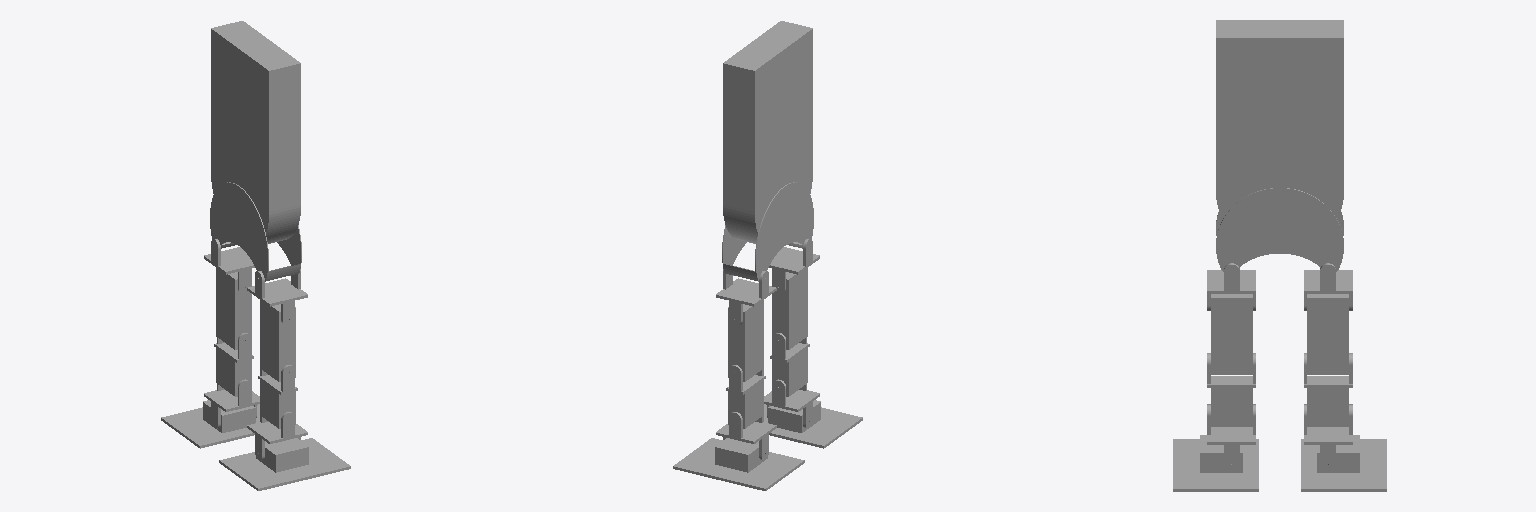
The robot description file, URDF, robot "biped":
<?xml version="1.0" ?>
<!-- =================================================================================== -->
<!-- |    This document was autogenerated by xacro from urdf\biped.xacro.temp          | -->
<!-- |    EDITING THIS FILE BY HAND IS NOT RECOMMENDED                                 | -->
<!-- =================================================================================== -->
<robot xmlns:xacro="http://www.ros.org/wiki/xacro" name="biped">
  <material name="silver">
    <color rgba="0.700 0.700 0.700 1.000"/>
  </material>
  <transmission name="Revolute 3_tran">
    <type>transmission_interface/SimpleTransmission</type>
    <joint name="Revolute 3">
      <hardwareInterface>hardware_interface/EffortJointInterface</hardwareInterface>
    </joint>
    <actuator name="Revolute 3_actr">
      <hardwareInterface>hardware_interface/EffortJointInterface</hardwareInterface>
      <mechanicalReduction>1</mechanicalReduction>
    </actuator>
  </transmission>
  <transmission name="Revolute 4_tran">
    <type>transmission_interface/SimpleTransmission</type>
    <joint name="Revolute 4">
      <hardwareInterface>hardware_interface/EffortJointInterface</hardwareInterface>
    </joint>
    <actuator name="Revolute 4_actr">
      <hardwareInterface>hardware_interface/EffortJointInterface</hardwareInterface>
      <mechanicalReduction>1</mechanicalReduction>
    </actuator>
  </transmission>
  <transmission name="Revolute 5_tran">
    <type>transmission_interface/SimpleTransmission</type>
    <joint name="Revolute 5">
      <hardwareInterface>hardware_interface/EffortJointInterface</hardwareInterface>
    </joint>
    <actuator name="Revolute 5_actr">
      <hardwareInterface>hardware_interface/EffortJointInterface</hardwareInterface>
      <mechanicalReduction>1</mechanicalReduction>
    </actuator>
  </transmission>
  <transmission name="Revolute 6_tran">
    <type>transmission_interface/SimpleTransmission</type>
    <joint name="Revolute 6">
      <hardwareInterface>hardware_interface/EffortJointInterface</hardwareInterface>
    </joint>
    <actuator name="Revolute 6_actr">
      <hardwareInterface>hardware_interface/EffortJointInterface</hardwareInterface>
      <mechanicalReduction>1</mechanicalReduction>
    </actuator>
  </transmission>
  <transmission name="Revolute 7_tran">
    <type>transmission_interface/SimpleTransmission</type>
    <joint name="Revolute 7">
      <hardwareInterface>hardware_interface/EffortJointInterface</hardwareInterface>
    </joint>
    <actuator name="Revolute 7_actr">
      <hardwareInterface>hardware_interface/EffortJointInterface</hardwareInterface>
      <mechanicalReduction>1</mechanicalReduction>
    </actuator>
  </transmission>
  <transmission name="Revolute 8_tran">
    <type>transmission_interface/SimpleTransmission</type>
    <joint name="Revolute 8">
      <hardwareInterface>hardware_interface/EffortJointInterface</hardwareInterface>
    </joint>
    <actuator name="Revolute 8_actr">
      <hardwareInterface>hardware_interface/EffortJointInterface</hardwareInterface>
      <mechanicalReduction>1</mechanicalReduction>
    </actuator>
  </transmission>
  <transmission name="Revolute 12_tran">
    <type>transmission_interface/SimpleTransmission</type>
    <joint name="Revolute 12">
      <hardwareInterface>hardware_interface/EffortJointInterface</hardwareInterface>
    </joint>
    <actuator name="Revolute 12_actr">
      <hardwareInterface>hardware_interface/EffortJointInterface</hardwareInterface>
      <mechanicalReduction>1</mechanicalReduction>
    </actuator>
  </transmission>
  <transmission name="Revolute 13_tran">
    <type>transmission_interface/SimpleTransmission</type>
    <joint name="Revolute 13">
      <hardwareInterface>hardware_interface/EffortJointInterface</hardwareInterface>
    </joint>
    <actuator name="Revolute 13_actr">
      <hardwareInterface>hardware_interface/EffortJointInterface</hardwareInterface>
      <mechanicalReduction>1</mechanicalReduction>
    </actuator>
  </transmission>
  <transmission name="Revolute 18_tran">
    <type>transmission_interface/SimpleTransmission</type>
    <joint name="Revolute 18">
      <hardwareInterface>hardware_interface/EffortJointInterface</hardwareInterface>
    </joint>
    <actuator name="Revolute 18_actr">
      <hardwareInterface>hardware_interface/EffortJointInterface</hardwareInterface>
      <mechanicalReduction>1</mechanicalReduction>
    </actuator>
  </transmission>
  <transmission name="Slider 19_tran">
    <type>transmission_interface/SimpleTransmission</type>
    <joint name="Slider 19">
      <hardwareInterface>hardware_interface/EffortJointInterface</hardwareInterface>
    </joint>
    <actuator name="Slider 19_actr">
      <hardwareInterface>hardware_interface/EffortJointInterface</hardwareInterface>
      <mechanicalReduction>1</mechanicalReduction>
    </actuator>
  </transmission>
  <transmission name="Revolute 20_tran">
    <type>transmission_interface/SimpleTransmission</type>
    <joint name="Revolute 20">
      <hardwareInterface>hardware_interface/EffortJointInterface</hardwareInterface>
    </joint>
    <actuator name="Revolute 20_actr">
      <hardwareInterface>hardware_interface/EffortJointInterface</hardwareInterface>
      <mechanicalReduction>1</mechanicalReduction>
    </actuator>
  </transmission>
  <transmission name="Revolute 21_tran">
    <type>transmission_interface/SimpleTransmission</type>
    <joint name="Revolute 21">
      <hardwareInterface>hardware_interface/EffortJointInterface</hardwareInterface>
    </joint>
    <actuator name="Revolute 21_actr">
      <hardwareInterface>hardware_interface/EffortJointInterface</hardwareInterface>
      <mechanicalReduction>1</mechanicalReduction>
    </actuator>
  </transmission>
  <!-- omitted .gazebo include -->
  <link name="base_link">
    <inertial>
      <origin xyz="0.0019999999999999883 -3.3392489231156755e-17 3.1597960612965125e-05" rpy="0 0 0"/>
      <mass value="0.00020390182942264898"/>
      <inertia ixx="0.0" iyy="0.0" izz="0.0" ixy="-0.0" iyz="-0.0" ixz="-0.0"/>
    </inertial>
    <visual>
      <origin xyz="0 0 0" rpy="0 0 0"/>
      <geometry>
        <mesh filename="package://biped_description/meshes/base_link.stl" scale="0.001 0.001 0.001"/>
      </geometry>
      <material name="silver"/>
    </visual>
    <collision>
      <origin xyz="0 0 0" rpy="0 0 0"/>
      <geometry>
        <mesh filename="package://biped_description/meshes/base_link.stl" scale="0.001 0.001 0.001"/>
      </geometry>
    </collision>
  </link>
  <link name="l_thigh_1">
    <inertial>
      <origin xyz="-2.2352837896616462e-11 -0.002000000100582839 -0.0029999998770654226" rpy="0 0 0"/>
      <mass value="0.0005023753384976689"/>
      <inertia ixx="0.0" iyy="0.0" izz="0.0" ixy="0.0" iyz="-0.0" ixz="0.0"/>
    </inertial>
    <visual>
      <origin xyz="-0.002 -0.0065 0.0068" rpy="0 0 0"/>
      <geometry>
        <mesh filename="package://biped_description/meshes/l_thigh_1.stl" scale="0.001 0.001 0.001"/>
      </geometry>
      <material name="silver"/>
    </visual>
    <collision>
      <origin xyz="-0.002 -0.0065 0.0068" rpy="0 0 0"/>
      <geometry>
        <mesh filename="package://biped_description/meshes/l_thigh_1.stl" scale="0.001 0.001 0.001"/>
      </geometry>
    </collision>
  </link>
  <link name="r_thigh_1">
    <inertial>
      <origin xyz="-2.2352839631339938e-11 0.002000000100582833 -0.002999999877065421" rpy="0 0 0"/>
      <mass value="0.0005023753384976689"/>
      <inertia ixx="0.0" iyy="0.0" izz="0.0" ixy="-0.0" iyz="0.0" ixz="-0.0"/>
    </inertial>
    <visual>
      <origin xyz="-0.002 0.0065 0.0068" rpy="0 0 0"/>
      <geometry>
        <mesh filename="package://biped_description/meshes/r_thigh_1.stl" scale="0.001 0.001 0.001"/>
      </geometry>
      <material name="silver"/>
    </visual>
    <collision>
      <origin xyz="-0.002 0.0065 0.0068" rpy="0 0 0"/>
      <geometry>
        <mesh filename="package://biped_description/meshes/r_thigh_1.stl" scale="0.001 0.001 0.001"/>
      </geometry>
    </collision>
  </link>
  <link name="l_calf_1">
    <inertial>
      <origin xyz="3.059388506421179e-11 -0.0020000001005828407 -0.003914288205483353" rpy="0 0 0"/>
      <mass value="0.00029110830222198907"/>
      <inertia ixx="0.0" iyy="0.0" izz="0.0" ixy="0.0" iyz="0.0" ixz="0.0"/>
    </inertial>
    <visual>
      <origin xyz="-0.002 -0.0065 0.0128" rpy="0 0 0"/>
      <geometry>
        <mesh filename="package://biped_description/meshes/l_calf_1.stl" scale="0.001 0.001 0.001"/>
      </geometry>
      <material name="silver"/>
    </visual>
    <collision>
      <origin xyz="-0.002 -0.0065 0.0128" rpy="0 0 0"/>
      <geometry>
        <mesh filename="package://biped_description/meshes/l_calf_1.stl" scale="0.001 0.001 0.001"/>
      </geometry>
    </collision>
  </link>
  <link name="r_calf_1">
    <inertial>
      <origin xyz="3.0593878558998755e-11 0.002000000100582825 -0.003914288205483349" rpy="0 0 0"/>
      <mass value="0.00029110830222198907"/>
      <inertia ixx="0.0" iyy="0.0" izz="0.0" ixy="0.0" iyz="0.0" ixz="0.0"/>
    </inertial>
    <visual>
      <origin xyz="-0.002 0.0065 0.0128" rpy="0 0 0"/>
      <geometry>
        <mesh filename="package://biped_description/meshes/r_calf_1.stl" scale="0.001 0.001 0.001"/>
      </geometry>
      <material name="silver"/>
    </visual>
    <collision>
      <origin xyz="-0.002 0.0065 0.0128" rpy="0 0 0"/>
      <geometry>
        <mesh filename="package://biped_description/meshes/r_calf_1.stl" scale="0.001 0.001 0.001"/>
      </geometry>
    </collision>
  </link>
  <link name="l_ankle_1">
    <inertial>
      <origin xyz="2.2351746755550073e-11 -0.0020000001005828416 -0.0021499997876584485" rpy="0 0 0"/>
      <mass value="8.634107252961244e-05"/>
      <inertia ixx="0.0" iyy="0.0" izz="0.0" ixy="-0.0" iyz="0.0" ixz="-0.0"/>
    </inertial>
    <visual>
      <origin xyz="-0.002 -0.0065 0.0181" rpy="0 0 0"/>
      <geometry>
        <mesh filename="package://biped_description/meshes/l_ankle_1.stl" scale="0.001 0.001 0.001"/>
      </geometry>
      <material name="silver"/>
    </visual>
    <collision>
      <origin xyz="-0.002 -0.0065 0.0181" rpy="0 0 0"/>
      <geometry>
        <mesh filename="package://biped_description/meshes/l_ankle_1.stl" scale="0.001 0.001 0.001"/>
      </geometry>
    </collision>
  </link>
  <link name="r_ankle_1">
    <inertial>
      <origin xyz="2.2351737648251824e-11 0.0020000001005828112 -0.002149999810010187" rpy="0 0 0"/>
      <mass value="8.634107252961244e-05"/>
      <inertia ixx="0.0" iyy="0.0" izz="0.0" ixy="-0.0" iyz="0.0" ixz="0.0"/>
    </inertial>
    <visual>
      <origin xyz="-0.002 0.0065 0.0181" rpy="0 0 0"/>
      <geometry>
        <mesh filename="package://biped_description/meshes/r_ankle_1.stl" scale="0.001 0.001 0.001"/>
      </geometry>
      <material name="silver"/>
    </visual>
    <collision>
      <origin xyz="-0.002 0.0065 0.0181" rpy="0 0 0"/>
      <geometry>
        <mesh filename="package://biped_description/meshes/r_ankle_1.stl" scale="0.001 0.001 0.001"/>
      </geometry>
    </collision>
  </link>
  <link name="l_foot_1">
    <inertial>
      <origin xyz="-0.001999999977648253 0.001226027296677432 -0.0005198628013570808" rpy="0 0 0"/>
      <mass value="0.00045844"/>
      <inertia ixx="0.0" iyy="0.0" izz="0.0" ixy="0.0" iyz="0.0" ixz="0.0"/>
    </inertial>
    <visual>
      <origin xyz="-0.004 -0.0045 0.0224" rpy="0 0 0"/>
      <geometry>
        <mesh filename="package://biped_description/meshes/l_foot_1.stl" scale="0.001 0.001 0.001"/>
      </geometry>
      <material name="silver"/>
    </visual>
    <collision>
      <origin xyz="-0.004 -0.0045 0.0224" rpy="0 0 0"/>
      <geometry>
        <mesh filename="package://biped_description/meshes/l_foot_1.stl" scale="0.001 0.001 0.001"/>
      </geometry>
    </collision>
  </link>
  <link name="r_foot_1">
    <inertial>
      <origin xyz="-0.0019999999776482615 -0.001226060240764916 -0.0005198768069430218" rpy="0 0 0"/>
      <mass value="0.00045842766924883465"/>
      <inertia ixx="0.0" iyy="0.0" izz="0.0" ixy="-0.0" iyz="-0.0" ixz="0.0"/>
    </inertial>
    <visual>
      <origin xyz="-0.004 0.0045 0.0224" rpy="0 0 0"/>
      <geometry>
        <mesh filename="package://biped_description/meshes/r_foot_1.stl" scale="0.001 0.001 0.001"/>
      </geometry>
      <material name="silver"/>
    </visual>
    <collision>
      <origin xyz="-0.004 0.0045 0.0224" rpy="0 0 0"/>
      <geometry>
        <mesh filename="package://biped_description/meshes/r_foot_1.stl" scale="0.001 0.001 0.001"/>
      </geometry>
    </collision>
  </link>
  <link name="sacrum_1">
    <inertial>
      <origin xyz="-0.0018999999999999998 3.2361957557891167e-11 -0.0017507188623073454" rpy="0 0 0"/>
      <mass value="0.0022235524932220385"/>
      <inertia ixx="0.0" iyy="0.0" izz="0.0" ixy="0.0" iyz="-0.0" ixz="0.0"/>
    </inertial>
    <visual>
      <origin xyz="-0.0039 -0.0 -0.0055" rpy="0 0 0"/>
      <geometry>
        <mesh filename="package://biped_description/meshes/sacrum_1.stl" scale="0.001 0.001 0.001"/>
      </geometry>
      <material name="silver"/>
    </visual>
    <collision>
      <origin xyz="-0.0039 -0.0 -0.0055" rpy="0 0 0"/>
      <geometry>
        <mesh filename="package://biped_description/meshes/sacrum_1.stl" scale="0.001 0.001 0.001"/>
      </geometry>
    </collision>
  </link>
  <link name="back_1">
    <inertial>
      <origin xyz="0.0 1.341104514528074e-10 0.007249999877065423" rpy="0 0 0"/>
      <mass value="0.005190420000000001"/>
      <inertia ixx="0.0" iyy="0.0" izz="0.0" ixy="-0.0" iyz="0.0" ixz="-0.0"/>
    </inertial>
    <visual>
      <origin xyz="-0.002 -0.0 -0.007" rpy="0 0 0"/>
      <geometry>
        <mesh filename="package://biped_description/meshes/back_1.stl" scale="0.001 0.001 0.001"/>
      </geometry>
      <material name="silver"/>
    </visual>
    <collision>
      <origin xyz="-0.002 -0.0 -0.007" rpy="0 0 0"/>
      <geometry>
        <mesh filename="package://biped_description/meshes/back_1.stl" scale="0.001 0.001 0.001"/>
      </geometry>
    </collision>
  </link>
  <link name="l_hip_1">
    <inertial>
      <origin xyz="-0.0020000000000000018 -1.0058283980013405e-10 -0.002149999944120643" rpy="0 0 0"/>
      <mass value="8.634107252961229e-05"/>
      <inertia ixx="0.0" iyy="0.0" izz="0.0" ixy="-0.0" iyz="-0.0" ixz="0.0"/>
    </inertial>
    <visual>
      <origin xyz="-0.004 -0.0045 0.0025" rpy="0 0 0"/>
      <geometry>
        <mesh filename="package://biped_description/meshes/l_hip_1.stl" scale="0.001 0.001 0.001"/>
      </geometry>
      <material name="silver"/>
    </visual>
    <collision>
      <origin xyz="-0.004 -0.0045 0.0025" rpy="0 0 0"/>
      <geometry>
        <mesh filename="package://biped_description/meshes/l_hip_1.stl" scale="0.001 0.001 0.001"/>
      </geometry>
    </collision>
  </link>
  <link name="r_hip_1">
    <inertial>
      <origin xyz="-0.002000000000000005 1.005828363306871e-10 -0.002149999944120643" rpy="0 0 0"/>
      <mass value="8.634107252961229e-05"/>
      <inertia ixx="0.0" iyy="0.0" izz="0.0" ixy="-0.0" iyz="-0.0" ixz="0.0"/>
    </inertial>
    <visual>
      <origin xyz="-0.004 0.0045 0.0025" rpy="0 0 0"/>
      <geometry>
        <mesh filename="package://biped_description/meshes/r_hip_1.stl" scale="0.001 0.001 0.001"/>
      </geometry>
      <material name="silver"/>
    </visual>
    <collision>
      <origin xyz="-0.004 0.0045 0.0025" rpy="0 0 0"/>
      <geometry>
        <mesh filename="package://biped_description/meshes/r_hip_1.stl" scale="0.001 0.001 0.001"/>
      </geometry>
    </collision>
  </link>
  <joint name="Revolute 3" type="revolute">
    <origin xyz="-0.002 0.002 -0.0043" rpy="0 0 0"/>
    <parent link="l_hip_1"/>
    <child link="l_thigh_1"/>
    <axis xyz="-0.0 -1.0 0.0"/>
    <limit upper="1.570796" lower="-1.570796" effort="100" velocity="100"/>
  </joint>
  <joint name="Revolute 4" type="revolute">
    <origin xyz="-0.002 -0.002 -0.0043" rpy="0 0 0"/>
    <parent link="r_hip_1"/>
    <child link="r_thigh_1"/>
    <axis xyz="0.0 1.0 -0.0"/>
    <limit upper="1.570796" lower="-1.570796" effort="100" velocity="100"/>
  </joint>
  <joint name="Revolute 5" type="revolute">
    <origin xyz="0.0 0.0 -0.006" rpy="0 0 0"/>
    <parent link="l_thigh_1"/>
    <child link="l_calf_1"/>
    <axis xyz="-0.0 1.0 -0.0"/>
    <limit upper="1.570796" lower="-1.570796" effort="100" velocity="100"/>
  </joint>
  <joint name="Revolute 6" type="revolute">
    <origin xyz="0.0 0.0 -0.006" rpy="0 0 0"/>
    <parent link="r_thigh_1"/>
    <child link="r_calf_1"/>
    <axis xyz="-0.0 -1.0 0.0"/>
    <limit upper="1.570796" lower="-1.570796" effort="100" velocity="100"/>
  </joint>
  <joint name="Revolute 7" type="revolute">
    <origin xyz="0.0 0.0 -0.0053" rpy="0 0 0"/>
    <parent link="l_calf_1"/>
    <child link="l_ankle_1"/>
    <axis xyz="0.0 1.0 -0.0"/>
    <limit upper="1.570796" lower="-1.570796" effort="100" velocity="100"/>
  </joint>
  <joint name="Revolute 8" type="revolute">
    <origin xyz="0.0 0.0 -0.0053" rpy="0 0 0"/>
    <parent link="r_calf_1"/>
    <child link="r_ankle_1"/>
    <axis xyz="0.0 -1.0 0.0"/>
    <limit upper="1.570796" lower="-1.570796" effort="100" velocity="100"/>
  </joint>
  <joint name="Revolute 12" type="revolute">
    <origin xyz="0.002 -0.002 -0.0043" rpy="0 0 0"/>
    <parent link="l_ankle_1"/>
    <child link="l_foot_1"/>
    <axis xyz="-1.0 -0.0 0.0"/>
    <limit upper="0.698132" lower="-0.349066" effort="100" velocity="100"/>
  </joint>
  <joint name="Revolute 13" type="revolute">
    <origin xyz="0.002 0.002 -0.0043" rpy="0 0 0"/>
    <parent link="r_ankle_1"/>
    <child link="r_foot_1"/>
    <axis xyz="-1.0 0.0 -0.0"/>
    <limit upper="0.349066" lower="-0.698132" effort="100" velocity="100"/>
  </joint>
  <joint name="Revolute 18" type="continuous">
    <origin xyz="0.0039 0.0 0.0055" rpy="0 0 0"/>
    <parent link="base_link"/>
    <child link="sacrum_1"/>
    <axis xyz="-1.0 0.0 0.0"/>
  </joint>
  <joint name="Slider 19" type="prismatic">
    <origin xyz="-0.0019 0.0 0.0015" rpy="0 0 0"/>
    <parent link="sacrum_1"/>
    <child link="back_1"/>
    <axis xyz="0.0 1.0 0.0"/>
    <limit upper="0.004" lower="-0.004" effort="100" velocity="100"/>
  </joint>
  <joint name="Revolute 20" type="continuous">
    <origin xyz="0.004 0.0045 -0.0025" rpy="0 0 0"/>
    <parent link="base_link"/>
    <child link="l_hip_1"/>
    <axis xyz="1.0 0.0 0.0"/>
  </joint>
  <joint name="Revolute 21" type="continuous">
    <origin xyz="0.004 -0.0045 -0.0025" rpy="0 0 0"/>
    <parent link="base_link"/>
    <child link="r_hip_1"/>
    <axis xyz="1.0 0.0 0.0"/>
  </joint>
</robot>

--- Facts derived from the render (not from the file) ---
Views: 3 orthographic renders of the robot side by side, from view 1: azimuth 30°, elevation 25°; view 2: azimuth 150°, elevation 25°; view 3: azimuth 270°, elevation 25°.
Model biped with 13 links and 12 joints (8 revolute, 3 continuous, 1 prismatic), rooted at base_link, posed all joints at 0.
Visible links, largest first — view 1: back_1, base_link, r_foot_1, l_foot_1, sacrum_1, l_thigh_1, r_thigh_1, r_calf_1, l_calf_1, r_hip_1, l_hip_1, r_ankle_1 (+1 smaller); view 2: back_1, base_link, l_foot_1, r_foot_1, sacrum_1, l_thigh_1, r_thigh_1, l_calf_1, r_calf_1, l_hip_1, r_hip_1, l_ankle_1 (+1 smaller); view 3: back_1, base_link, l_foot_1, r_foot_1, l_thigh_1, r_thigh_1, sacrum_1, l_calf_1, r_calf_1, l_ankle_1, r_ankle_1, l_hip_1 (+1 smaller).
Link boxes in pixels (x1,y1,x2,y2): back_1: (211, 21, 300, 198); base_link: (210, 182, 301, 281); r_foot_1: (219, 438, 350, 490); l_foot_1: (161, 400, 259, 448); sacrum_1: (211, 157, 300, 243); l_thigh_1: (216, 268, 251, 349); r_thigh_1: (260, 300, 295, 381); r_calf_1: (258, 365, 297, 428); l_calf_1: (214, 333, 253, 396); r_hip_1: (247, 269, 307, 325); l_hip_1: (204, 239, 254, 293); r_ankle_1: (247, 412, 307, 460); back_1: (723, 21, 812, 198); base_link: (722, 182, 813, 281); l_foot_1: (673, 438, 804, 490); r_foot_1: (764, 400, 862, 448); sacrum_1: (723, 157, 812, 243); l_thigh_1: (728, 300, 763, 381); r_thigh_1: (772, 268, 807, 349); l_calf_1: (726, 365, 765, 428); r_calf_1: (770, 333, 809, 396); l_hip_1: (716, 269, 776, 325); r_hip_1: (769, 239, 819, 293); l_ankle_1: (716, 412, 776, 460); back_1: (1216, 20, 1343, 177); base_link: (1216, 188, 1343, 271); l_foot_1: (1301, 435, 1386, 491); r_foot_1: (1173, 435, 1258, 491); l_thigh_1: (1307, 294, 1348, 374); r_thigh_1: (1211, 294, 1252, 374); sacrum_1: (1216, 178, 1343, 217); l_calf_1: (1304, 353, 1352, 426); r_calf_1: (1207, 353, 1255, 426); l_ankle_1: (1304, 404, 1352, 471); r_ankle_1: (1207, 404, 1255, 471); l_hip_1: (1304, 263, 1352, 310).
Bounding box of the posed robot: 0.011 × 0.02 × 0.0452 m (x, y, z).
Meshes: 13 distinct files referenced, 13 mesh visuals loaded (13 binary STL).
